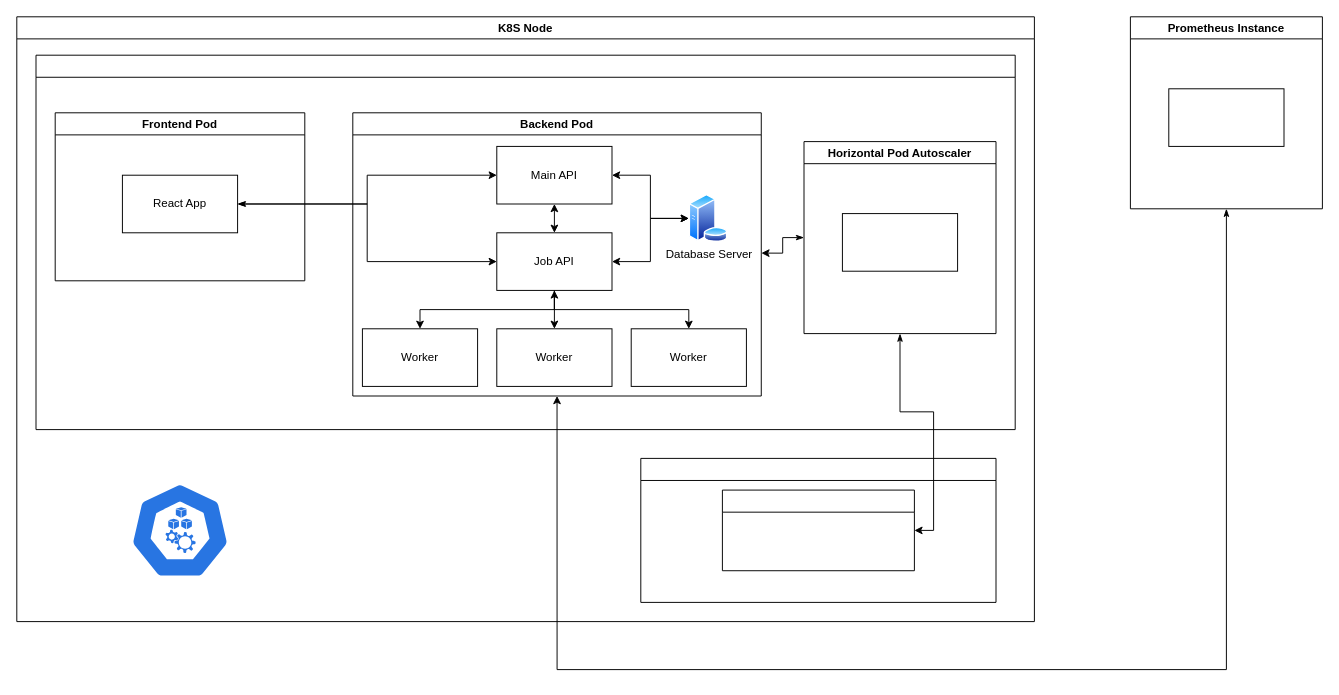
The diagram is 1339 pixels wide and 695 high, and some of its shapes have lost their labels. The shapes that lost their labels are listed below. From the top down, each one's box as (x1, y1, x2, y2) in pixels, then its label:
(1168, 88, 1284, 146): Django Prometheus Target
(35, 54, 1015, 430): Default Namespace
(841, 213, 958, 271): CPU Treshold
(721, 489, 914, 571): metrics-server
(640, 457, 996, 602): kube-system Namespace
